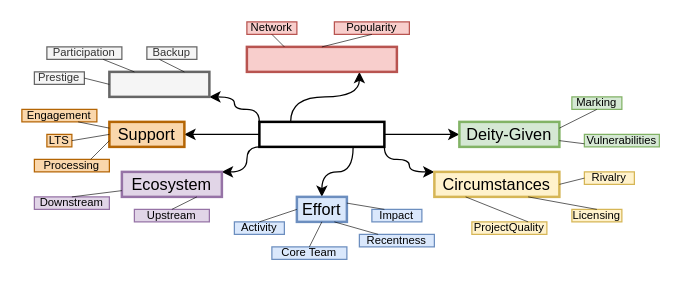
Image size: 681x281. Some labels were removed from this diagram. The shapes that lost their labels are listed below. From the top down, each one's centre as x and y in pixels, then its label:
the point at 321,58: Interconnectedness
the point at 159,84: Community
the point at 321,134: End-Of-Support
